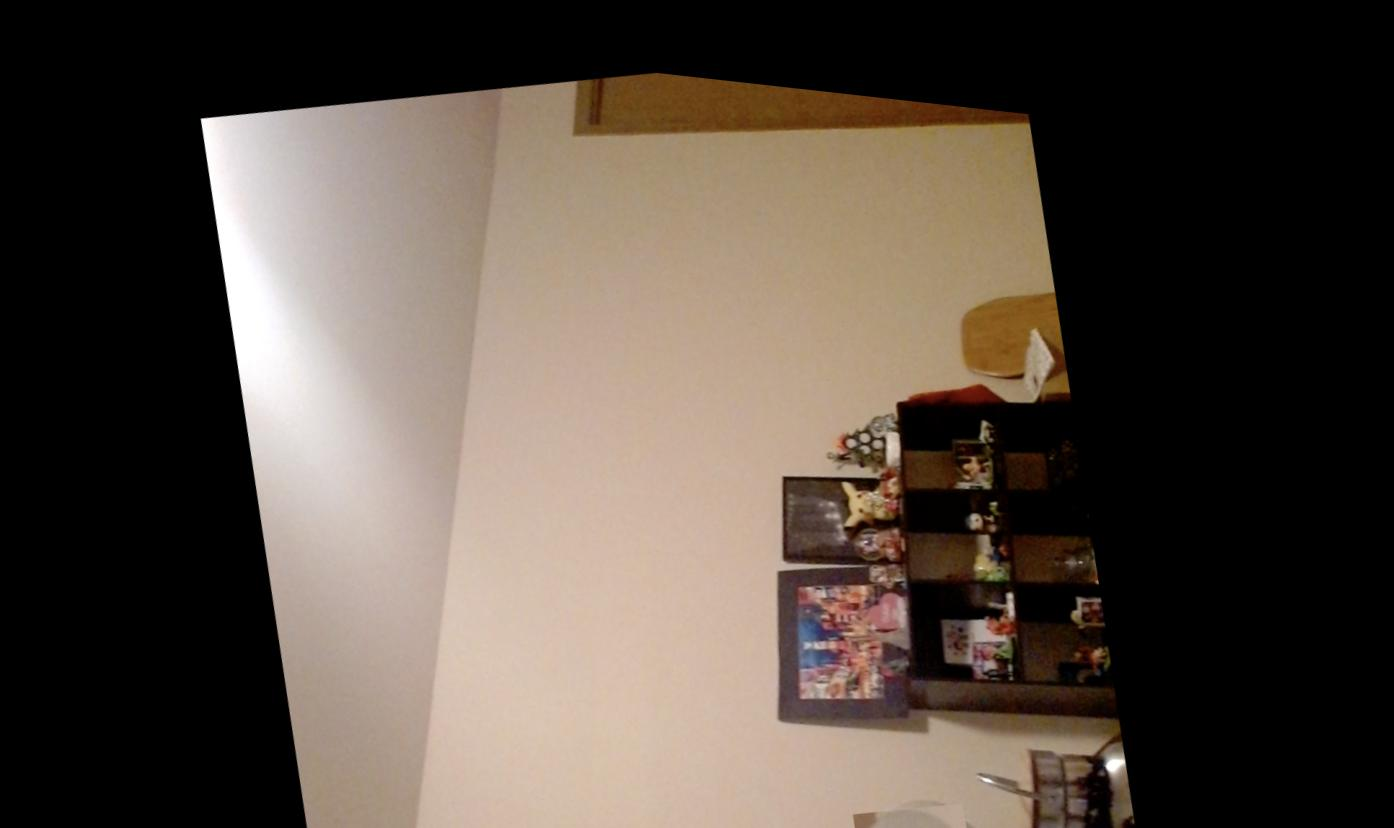Fan: (857, 768, 987, 828)
